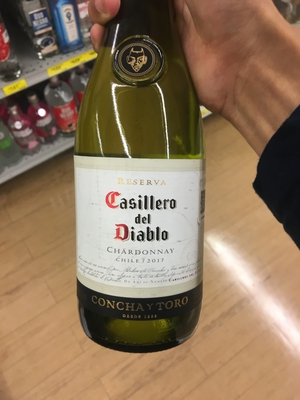casillero del diablo chardonnay: (71, 22, 218, 348)
